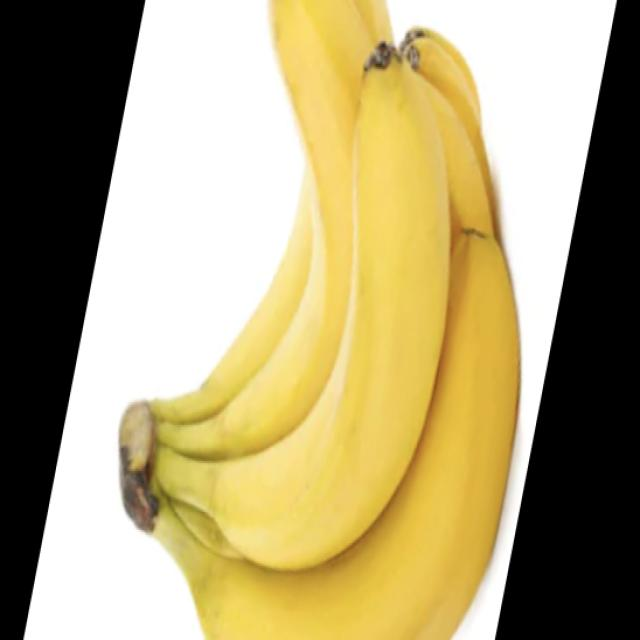god quality banana: (120, 2, 521, 639)
